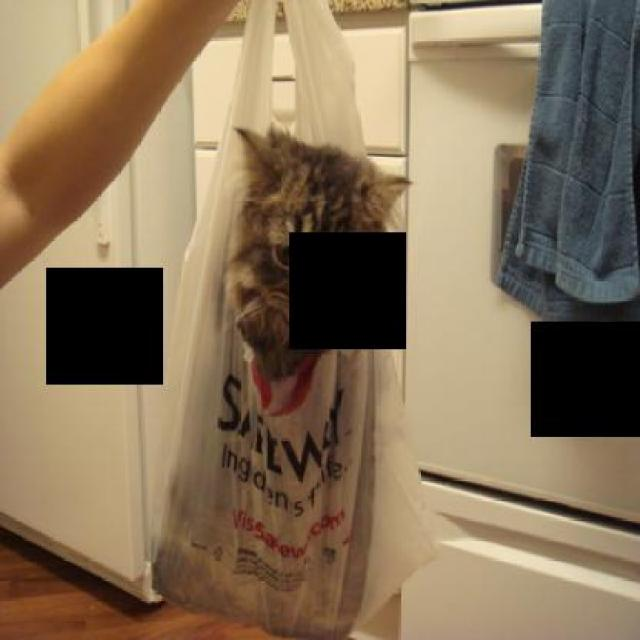plastic bag: (135, 0, 448, 631)
